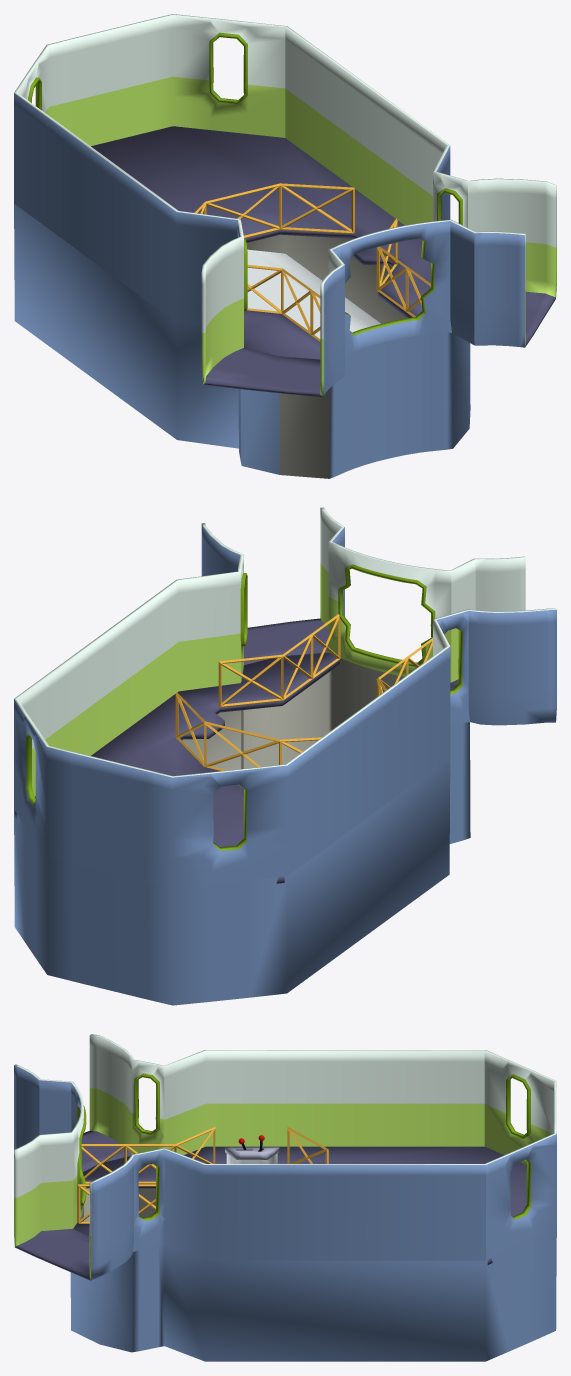
Rendered from OxygenButtons_room2.glb.
The picture shows the model from 3 angles, top to bottom: view 1: azimuth 30°, elevation 25°; view 2: azimuth 150°, elevation 25°; view 3: azimuth 270°, elevation 25°; orthographic projection. The views are drawn at different scales.
Parts seen in each view (by area): view 1: Circle.008; view 2: Circle.008; view 3: Circle.008, oxygen_puzzle_terminal.001.
Part boxes in pixels (x1=…): Circle.008: x1=14, y1=14, x2=556, y2=478; Circle.008: x1=14, y1=507, x2=556, y2=1005; Circle.008: x1=14, y1=1034, x2=556, y2=1361; oxygen_puzzle_terminal.001: x1=225, y1=1135, x2=279, y2=1163.
Bounding box in the file's own units: 37.24 × 22.99 × 57.16.
1 material, 1 textured.
